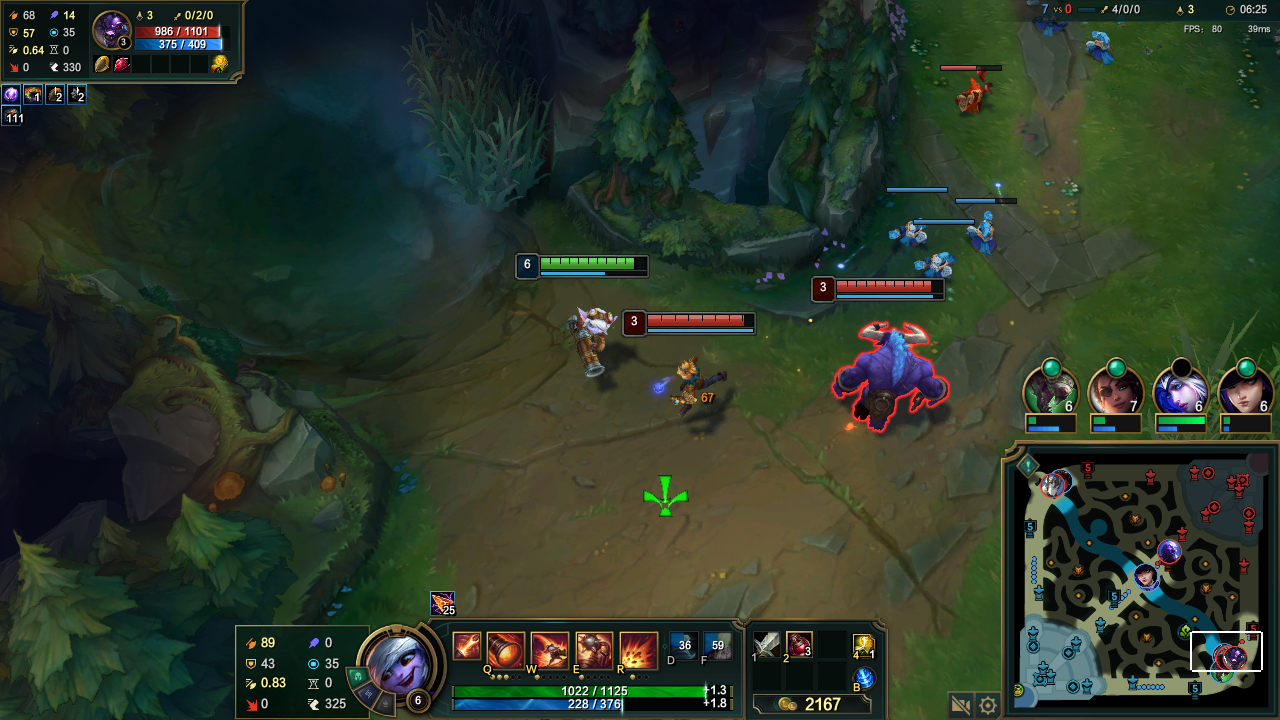DFXB: (948, 70, 997, 124)
DFYX: (828, 276, 930, 306), (637, 308, 746, 334)
WFXB: (960, 204, 1003, 257), (915, 247, 963, 289), (888, 208, 931, 248), (1077, 25, 1116, 68)
Yita: (1187, 675, 1204, 699)
